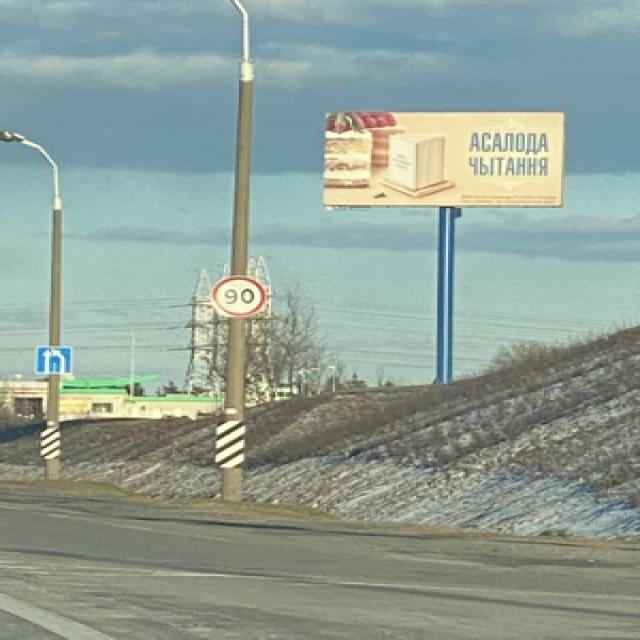speedlimit: (207, 275, 262, 314)
